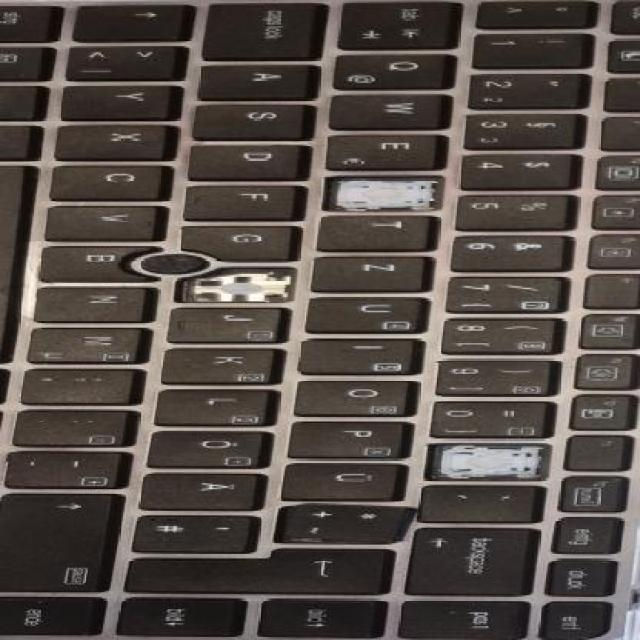Keyboard problems: (418, 424, 551, 487), (174, 254, 302, 308), (314, 166, 448, 216)
